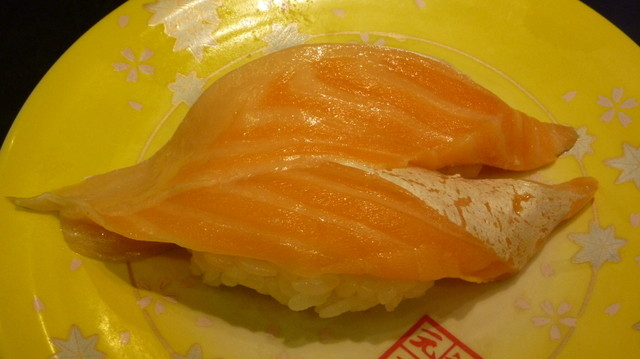salmon: (50, 155, 604, 339)
